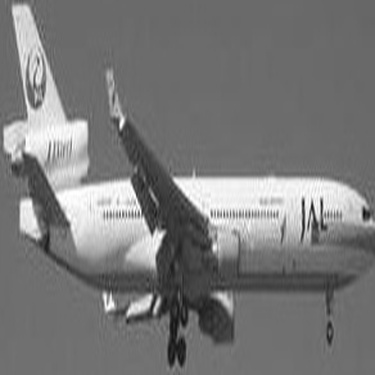airplane: (5, 5, 368, 371)
